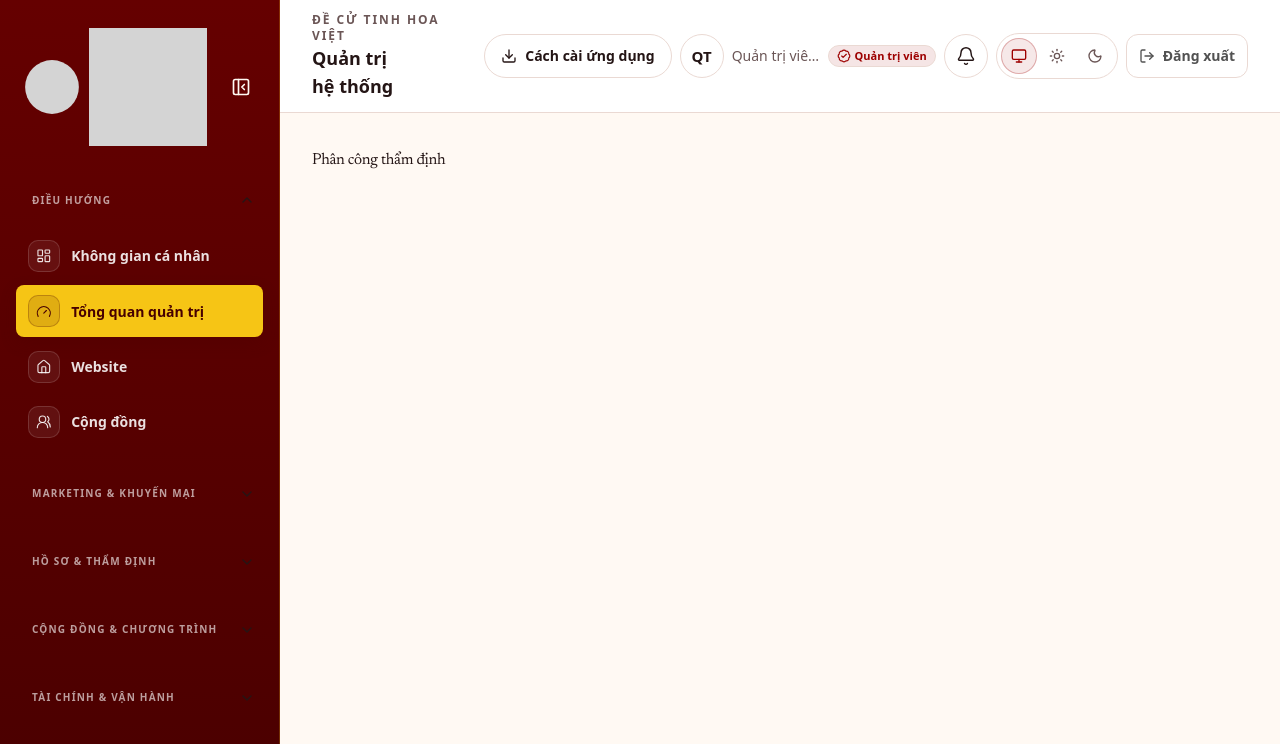
Scenario: layout shells › shows admin work allocation links in the admin area
Click the button "Hồ sơ & thẩm định" at (140, 562), box [16, 540, 263, 584]
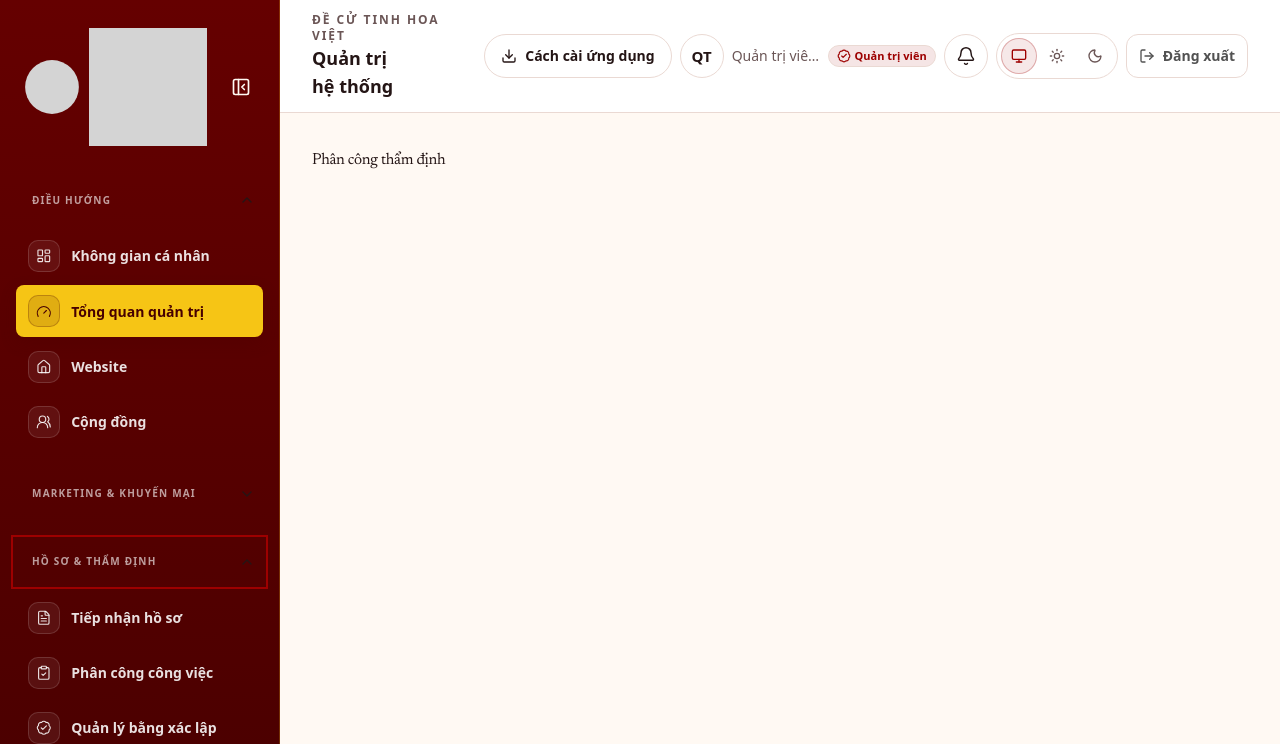
Expected: the link "Phân công công việc" is shown, [28, 657, 213, 689]
